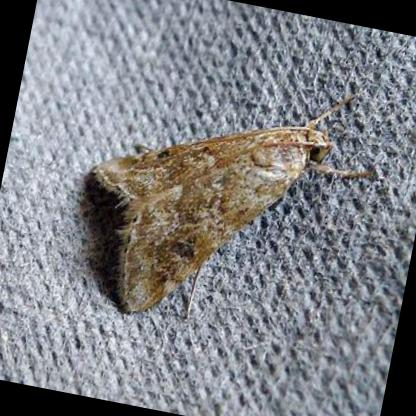Hellula undalis: (90, 95, 379, 327)
